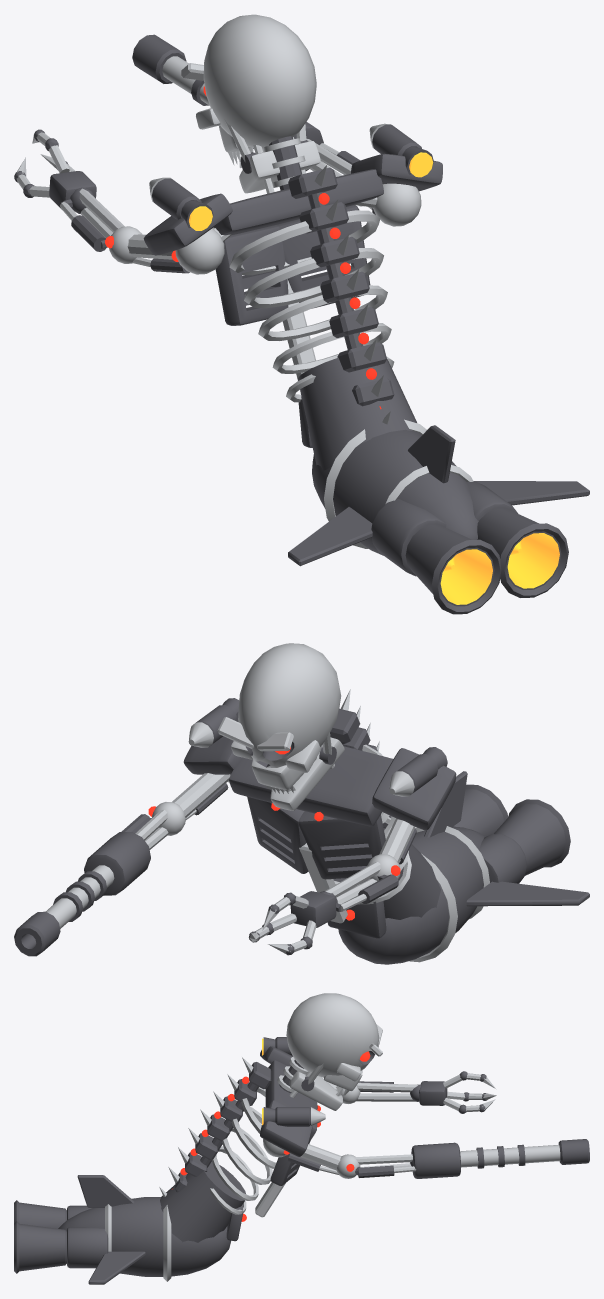
Rendered from enemy_robot.glb.
3 views of the same model, one above another, from view 1: azimuth 30°, elevation 25°; view 2: azimuth 150°, elevation 25°; view 3: azimuth 270°, elevation 25° (orthographic). The views are drawn at different scales.
Parts seen in each view (by area): view 1: EnemyRobot; view 2: EnemyRobot; view 3: EnemyRobot.
Part boxes in pixels (x1=…): EnemyRobot: x1=14, y1=14, x2=589, y2=614; EnemyRobot: x1=14, y1=643, x2=589, y2=964; EnemyRobot: x1=14, y1=993, x2=589, y2=1284.
Bounding box in the file's own units: 0.9099 × 1.3 × 2.4.
